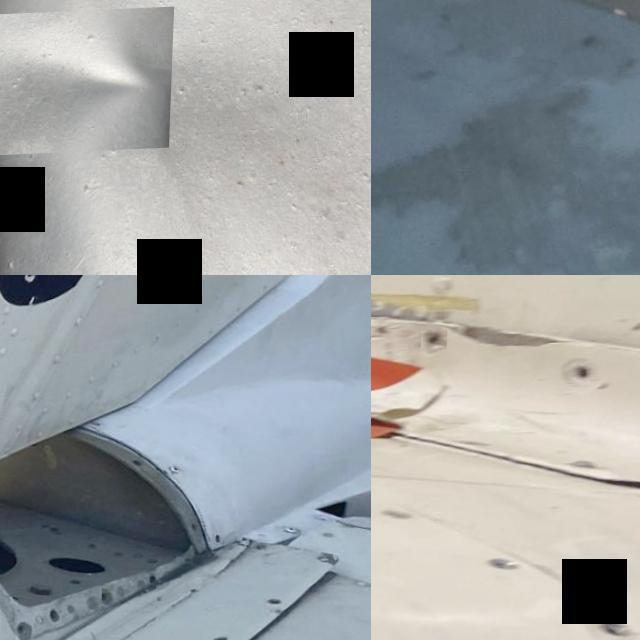Crack: (455, 314, 567, 358), (566, 476, 640, 507)
Dent: (0, 10, 175, 157)
Missing_Fastener: (558, 362, 602, 392), (482, 557, 528, 580), (598, 619, 630, 640), (422, 332, 448, 354), (266, 598, 294, 614), (215, 637, 242, 640)
